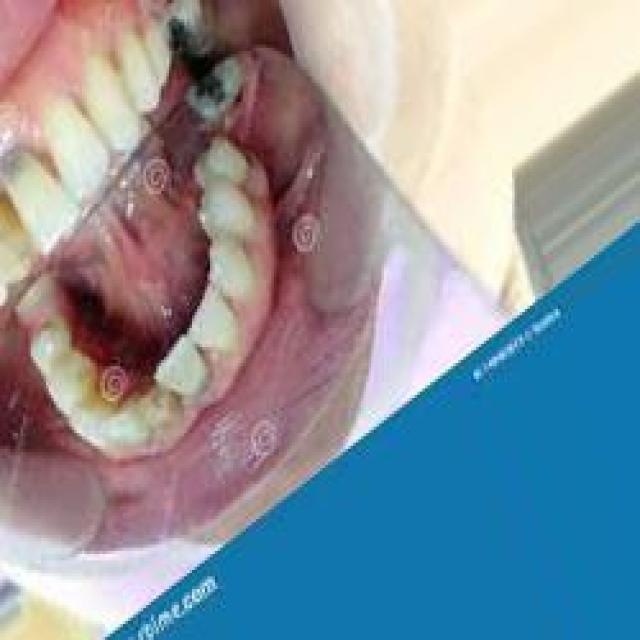caries: (185, 56, 239, 122), (154, 10, 209, 70), (138, 381, 190, 435)
